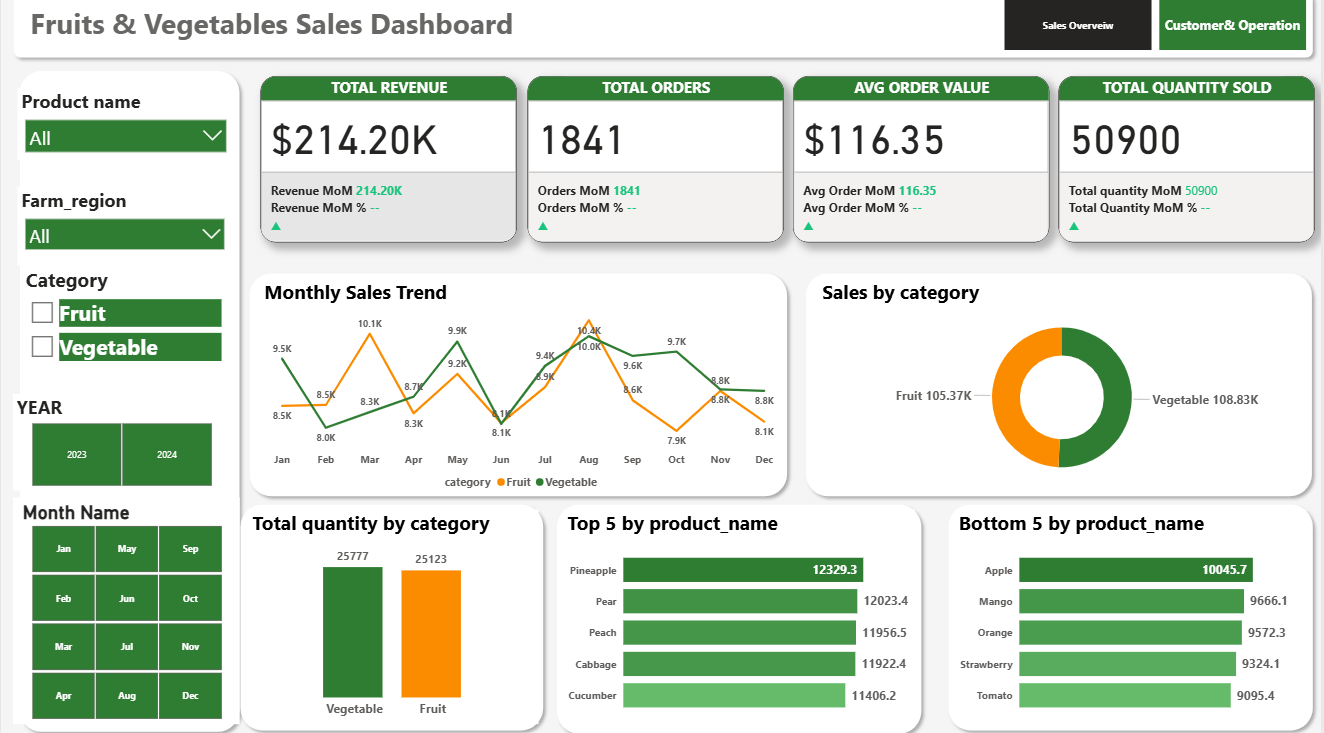

What the dashboard file says about the page in this screenshot:
{"tool":"powerbi","page":{"name":"Sales Overveiw","canvas":[1750,1000],"ordinal":0},"visuals":[{"type":"shape","box":[15.5,103.8,309.3,894.7],"z":0},{"type":"shape","box":[1058.2,371.1,689.3,313.7],"z":1000},{"type":"shape","box":[309.3,678.2,419.7,318.1],"z":2000},{"type":"shape","box":[729,678.2,501.5,322.5],"z":3000},{"type":"shape","box":[1248.2,678.2,501.5,318.1],"z":4000},{"type":"shape","box":[320.3,371.1,731.2,313.7],"z":5000},{"type":"shape","box":[8.8,0,1740.8,103.8],"z":6000},{"type":"textbox","box":[33.8,17.9,715.8,67.6],"z":7000},{"type":"lineChart","title":"Monthly Sales Trend","fields":{"Y":["Sum(public fruits_vegetables_analysis.total_price)"],"Series":["public fruits_vegetables_analysis.category"],"Category":["Date Table.Month Name"]},"box":[344.6,388.8,695.9,289.4],"z":8000},{"type":"donutChart","title":"Sales by category","fields":{"Category":["public fruits_vegetables_analysis.category"],"Y":["Sum(public fruits_vegetables_analysis.total_price)"]},"box":[1084.7,388.8,645.1,280.6],"z":9000},{"type":"clusteredColumnChart","title":"Total quantity by category","fields":{"Category":["public fruits_vegetables_analysis.category"],"Y":["Sum(public fruits_vegetables_analysis.quantity)"]},"box":[329.2,693.7,384.4,285],"z":10000},{"type":"clusteredBarChart","title":"Bottom 5 by product_name","fields":{"Y":["Sum(public fruits_vegetables_analysis.total_price)"],"Category":["public fruits_vegetables_analysis.product_name"]},"box":[1265.9,693.7,466.1,285],"z":11000},{"type":"clusteredBarChart","title":"Top 5 by product_name","fields":{"Y":["Sum(public fruits_vegetables_analysis.total_price)"],"Category":["public fruits_vegetables_analysis.product_name"]},"box":[746.7,693.7,466.1,285],"z":12000},{"type":"slicer","title":"Product name","fields":{"Values":["public fruits_vegetables_analysis.product_name"]},"box":[22.1,134.8,287.2,95],"z":13000},{"type":"slicer","title":"Farm_region","fields":{"Values":["public fruits_vegetables_analysis.farm_region"]},"box":[22.1,267.3,285,103.8],"z":14000},{"type":"slicer","title":"Category","fields":{"Values":["public fruits_vegetables_analysis.category"]},"box":[28.7,371.1,269.5,170.1],"z":15000},{"type":"pageNavigator","box":[1330.6,18.1,400.5,67.2],"z":16000},{"type":"slicer","title":"YEAR","fields":{"Values":["Date Table.Year"]},"box":[15.5,541.2,287.2,128.1],"z":17000},{"type":"slicer","fields":{"Values":["Date Table.Month Name"]},"box":[15.5,678.2,300.4,300.4],"z":18000},{"type":"cardVisual","title":"TOTAL REVENUE","fields":{"Data":["public fruits_vegetables_analysis.Total Revenue"]},"box":[344.6,119.3,340.2,220.9],"z":19000},{"type":"cardVisual","title":"TOTAL ORDERS","fields":{"Data":["public fruits_vegetables_analysis.Total Orders"]},"box":[697.4,119.3,340.2,220.9],"z":20000},{"type":"cardVisual","title":"AVG ORDER VALUE","fields":{"Data":["public fruits_vegetables_analysis.Avg order value"]},"box":[1050.1,119.3,340.2,220.9],"z":21000},{"type":"cardVisual","title":"TOTAL QUANTITY SOLD","fields":{"Data":["public fruits_vegetables_analysis.Total Quantity Sold"]},"box":[1402.8,119.3,340,220.9],"z":22000}]}

Visuals, with their boxes on the page's 1750x1000 design canvas (x1, y1, x2, y2). These are canvas units, not pixel positions in the 1324x733 screenshot, which may show the page scaled, cropped or inside an application window:
shape: (x1=16, y1=104, x2=325, y2=998)
shape: (x1=1058, y1=371, x2=1748, y2=685)
shape: (x1=309, y1=678, x2=729, y2=996)
shape: (x1=729, y1=678, x2=1230, y2=1001)
shape: (x1=1248, y1=678, x2=1750, y2=996)
shape: (x1=320, y1=371, x2=1052, y2=685)
shape: (x1=9, y1=0, x2=1750, y2=104)
textbox: (x1=34, y1=18, x2=750, y2=86)
"Monthly Sales Trend" lineChart: (x1=345, y1=389, x2=1040, y2=678)
"Sales by category" donutChart: (x1=1085, y1=389, x2=1730, y2=669)
"Total quantity by category" clusteredColumnChart: (x1=329, y1=694, x2=714, y2=979)
"Bottom 5 by product_name" clusteredBarChart: (x1=1266, y1=694, x2=1732, y2=979)
"Top 5 by product_name" clusteredBarChart: (x1=747, y1=694, x2=1213, y2=979)
"Product name" slicer: (x1=22, y1=135, x2=309, y2=230)
"Farm_region" slicer: (x1=22, y1=267, x2=307, y2=371)
"Category" slicer: (x1=29, y1=371, x2=298, y2=541)
pageNavigator: (x1=1331, y1=18, x2=1731, y2=85)
"YEAR" slicer: (x1=16, y1=541, x2=303, y2=669)
slicer - Date Table.Month Name: (x1=16, y1=678, x2=316, y2=979)
"TOTAL REVENUE" cardVisual: (x1=345, y1=119, x2=685, y2=340)
"TOTAL ORDERS" cardVisual: (x1=697, y1=119, x2=1038, y2=340)
"AVG ORDER VALUE" cardVisual: (x1=1050, y1=119, x2=1390, y2=340)
"TOTAL QUANTITY SOLD" cardVisual: (x1=1403, y1=119, x2=1743, y2=340)
